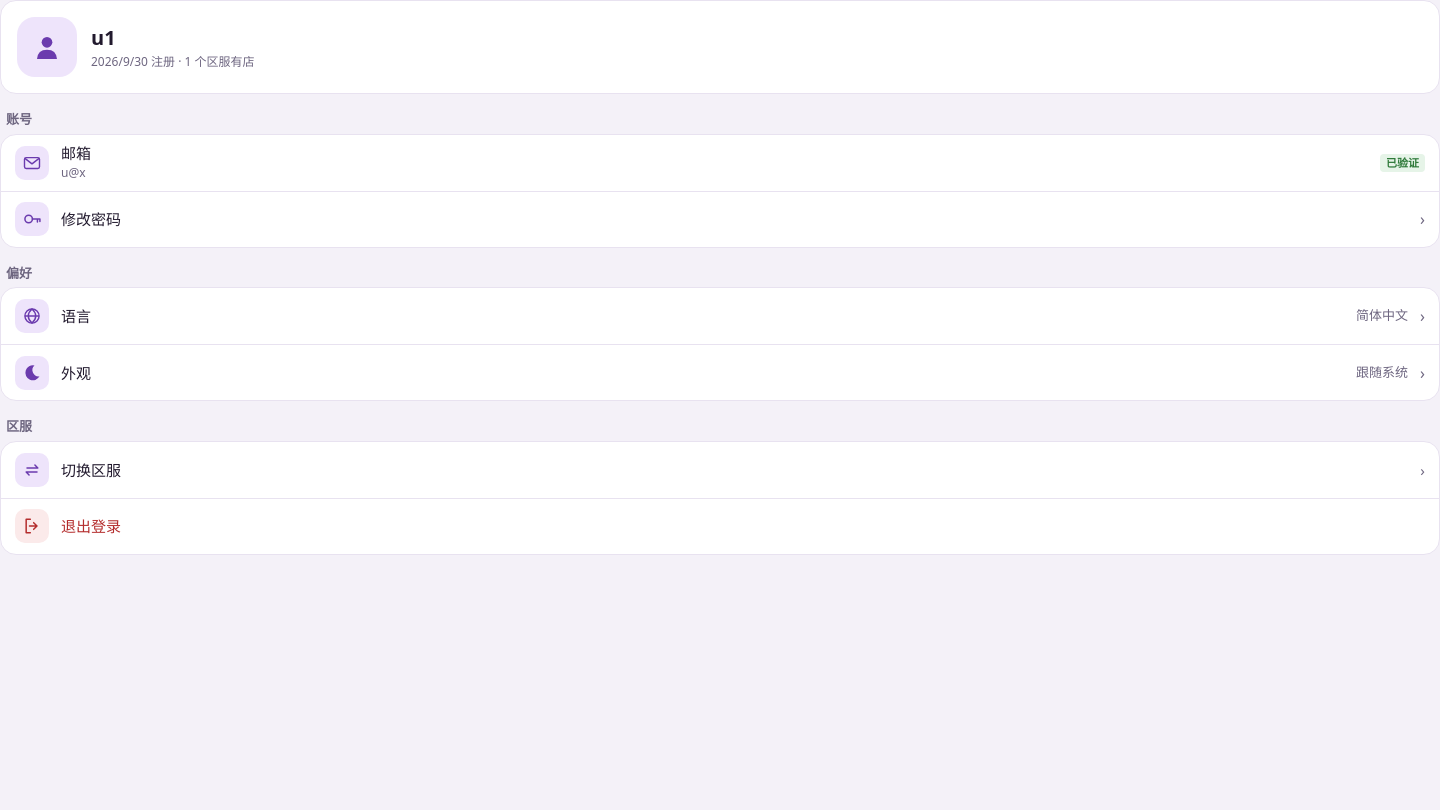
AccountView（问题记录 178；界面改版 P11） › “修改密码”行点开密码面板，三格都在
The image size is (1440, 810).
Click the button with test id "acc-pw": (32,219) left=1, top=191, right=1439, bottom=247
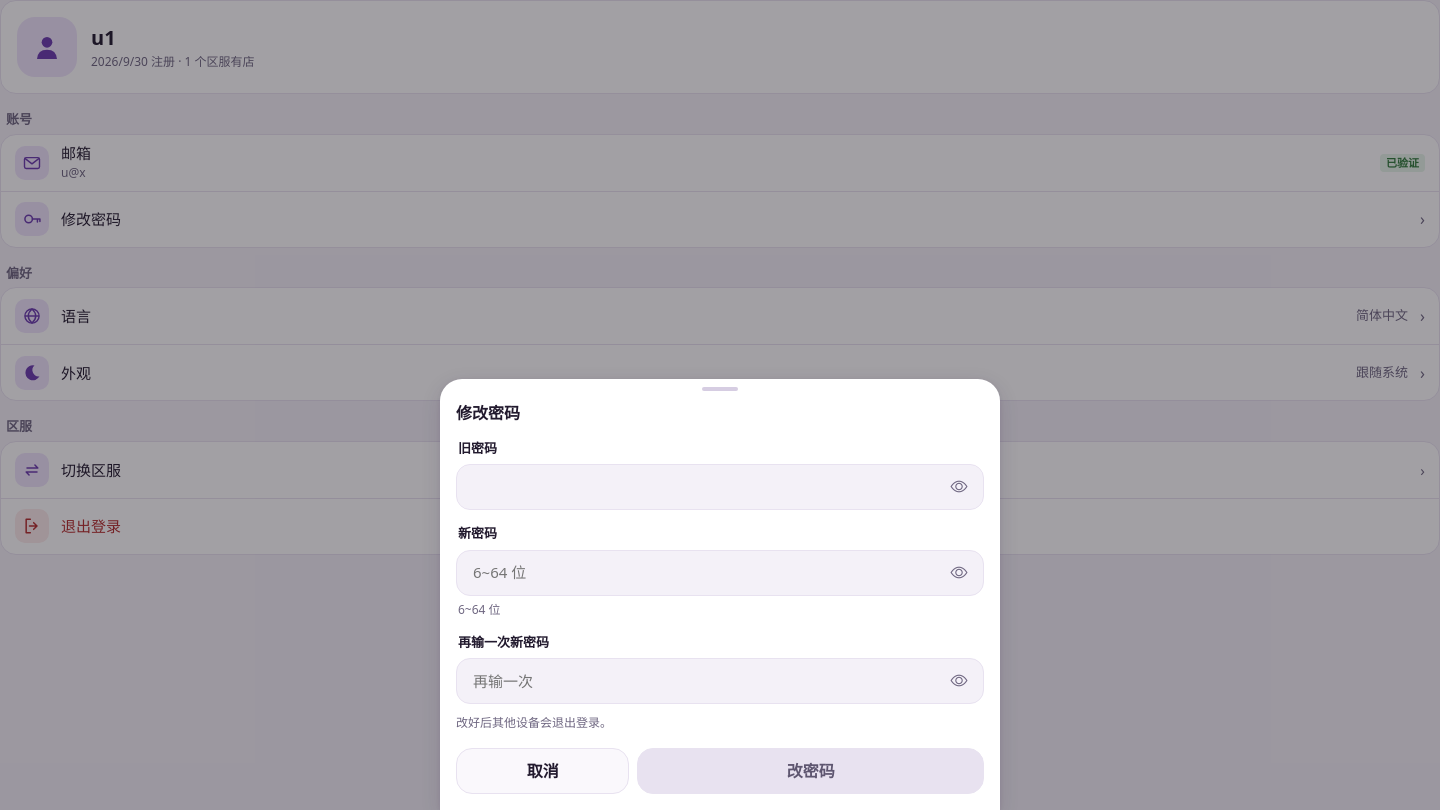
Check: the password field with test id "acc-new" is shown, box left=471, top=560, right=935, bottom=585
Check: the password field with test id "acc-new2" is shown, box left=471, top=669, right=935, bottom=693
